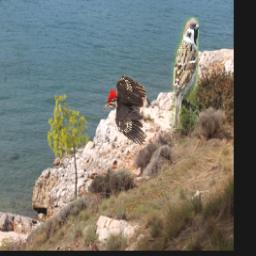Sparrow: (172, 18, 200, 130)
Woodpecker: (103, 75, 145, 145)
